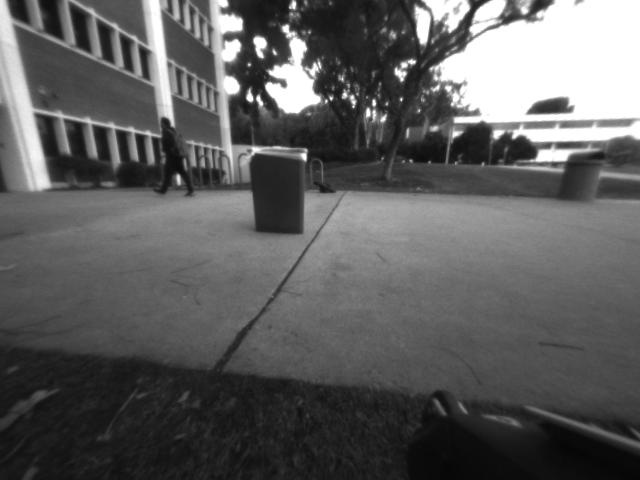trashcan: (240, 136, 314, 238)
